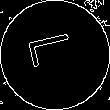L_E: (27, 34, 83, 76)
